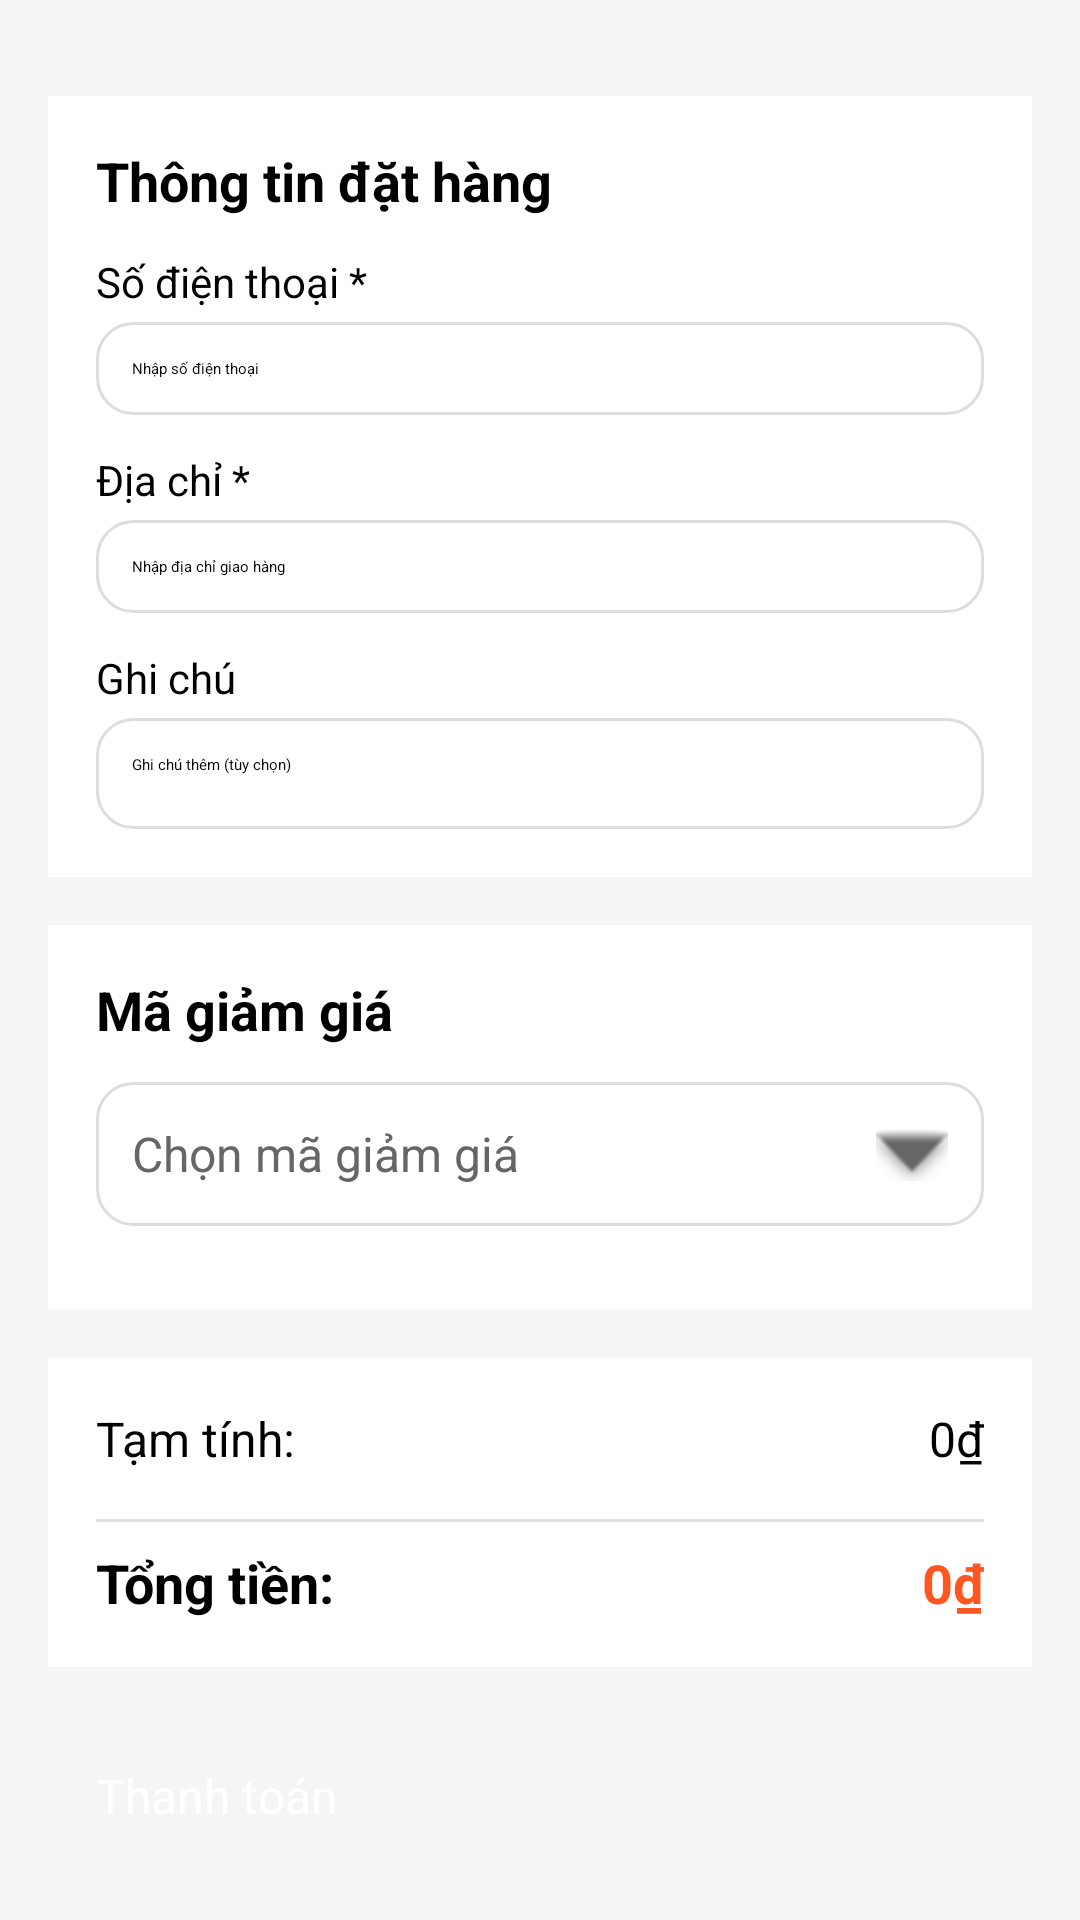

Point at icon controls on the screen. Image size 1080w x 1920h, points as (x=x, y=y).
arrow down float: (x=912, y=1153)
